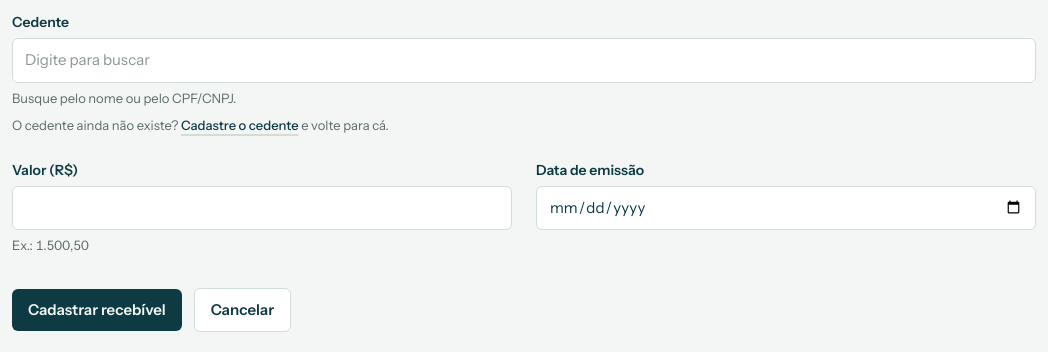
Test case: PayableForm › recusa valor fora das regras
Type "10,555" into the field labelled "Valor (R$)".
click(262, 208); type("10,555")  # box [12,186,512,230]
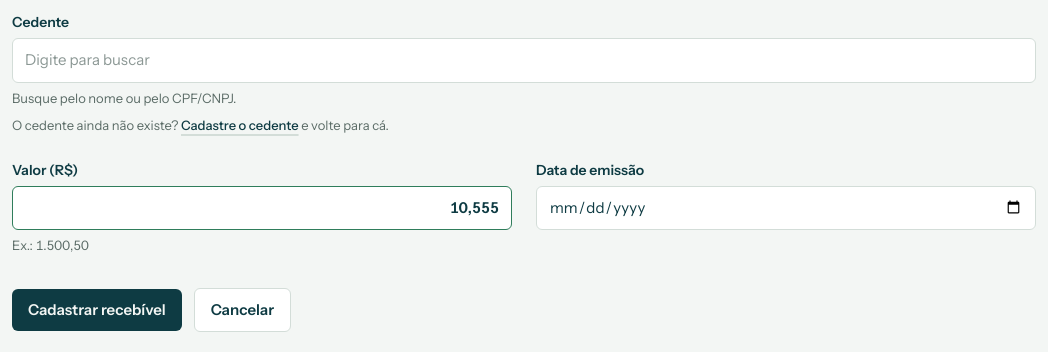
Click the button "Cadastrar recebível".
click(97, 310)  # box [12,288,182,331]
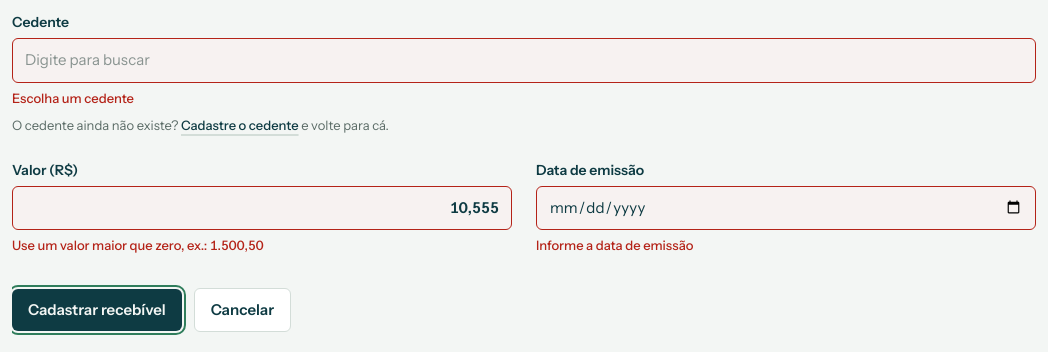
Expected: the text "Use um valor maior que zero, ex.: 1.500,50" is shown, [12,237,264,253]
